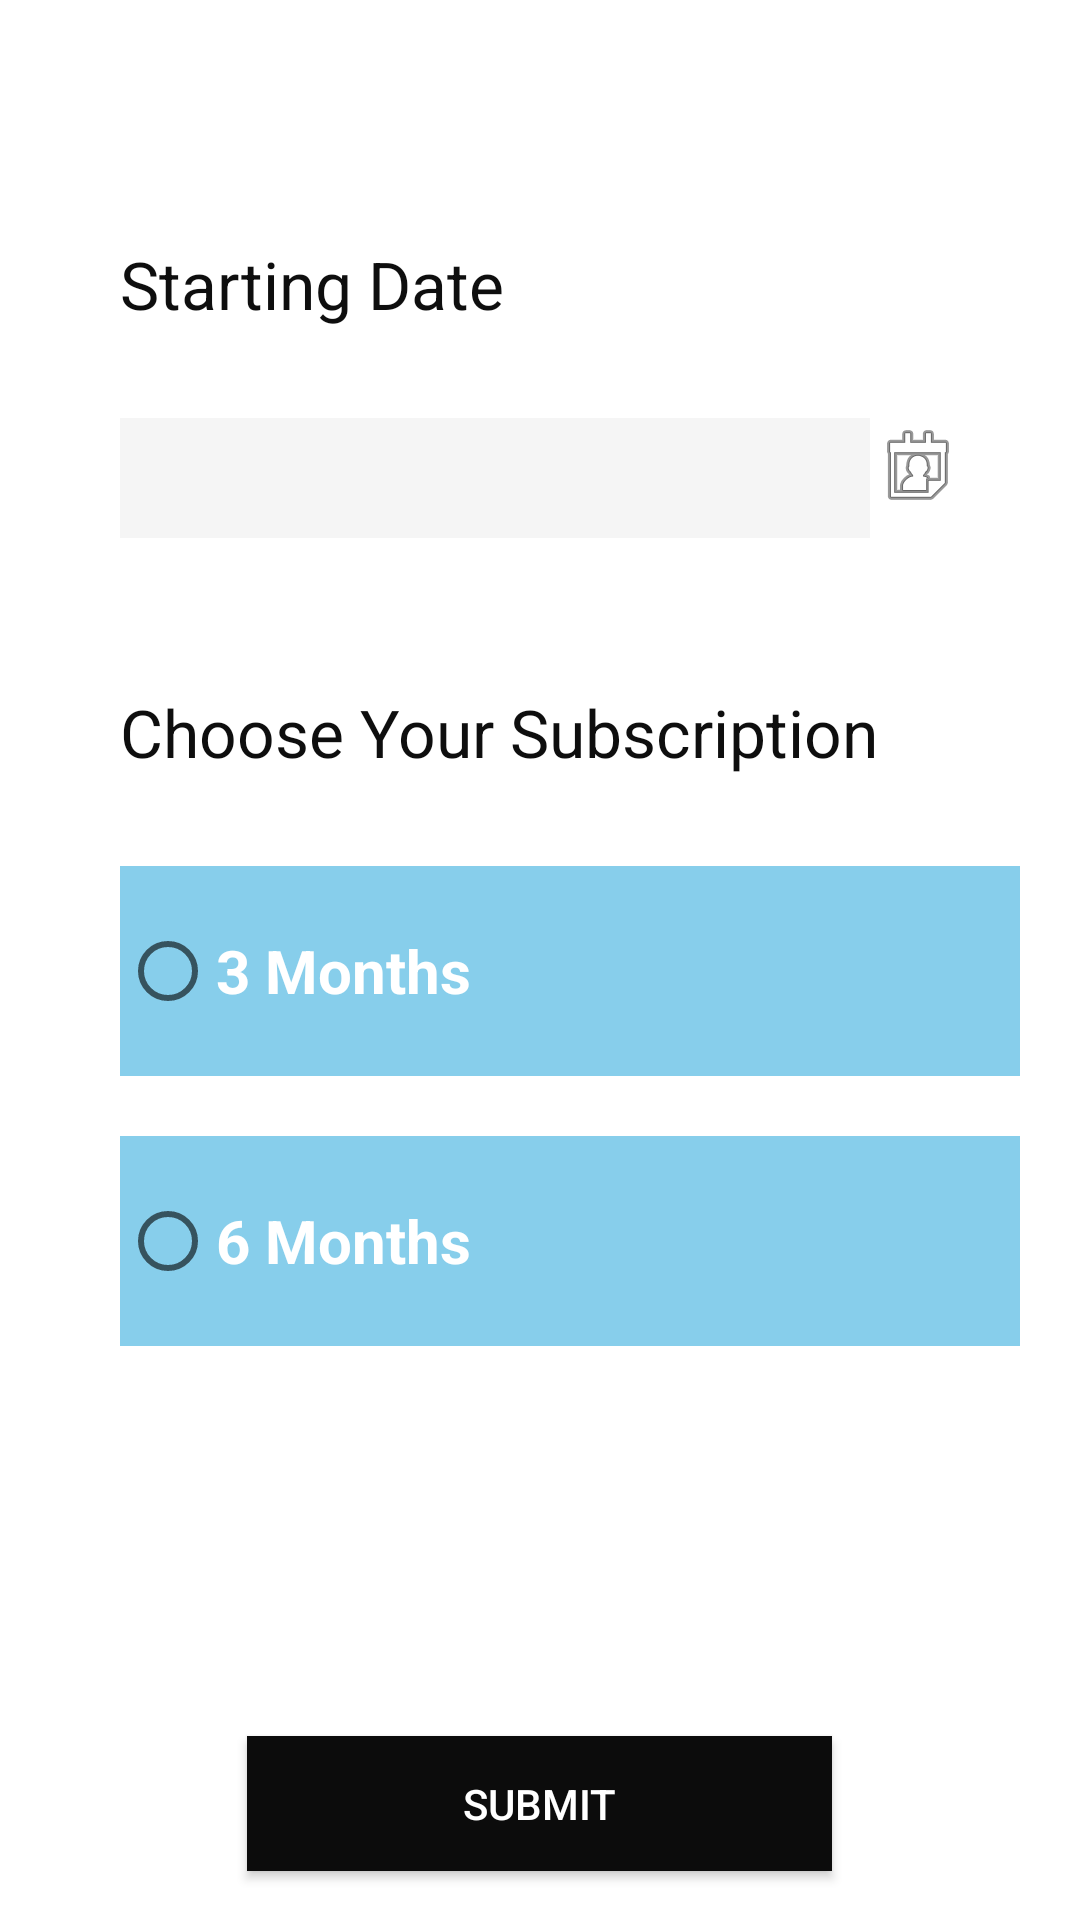

Named icons in this screenshot (1080x1920) and their bounding boxes, (x1, y1, x2, y2):
calendar: (887, 430, 949, 500)
